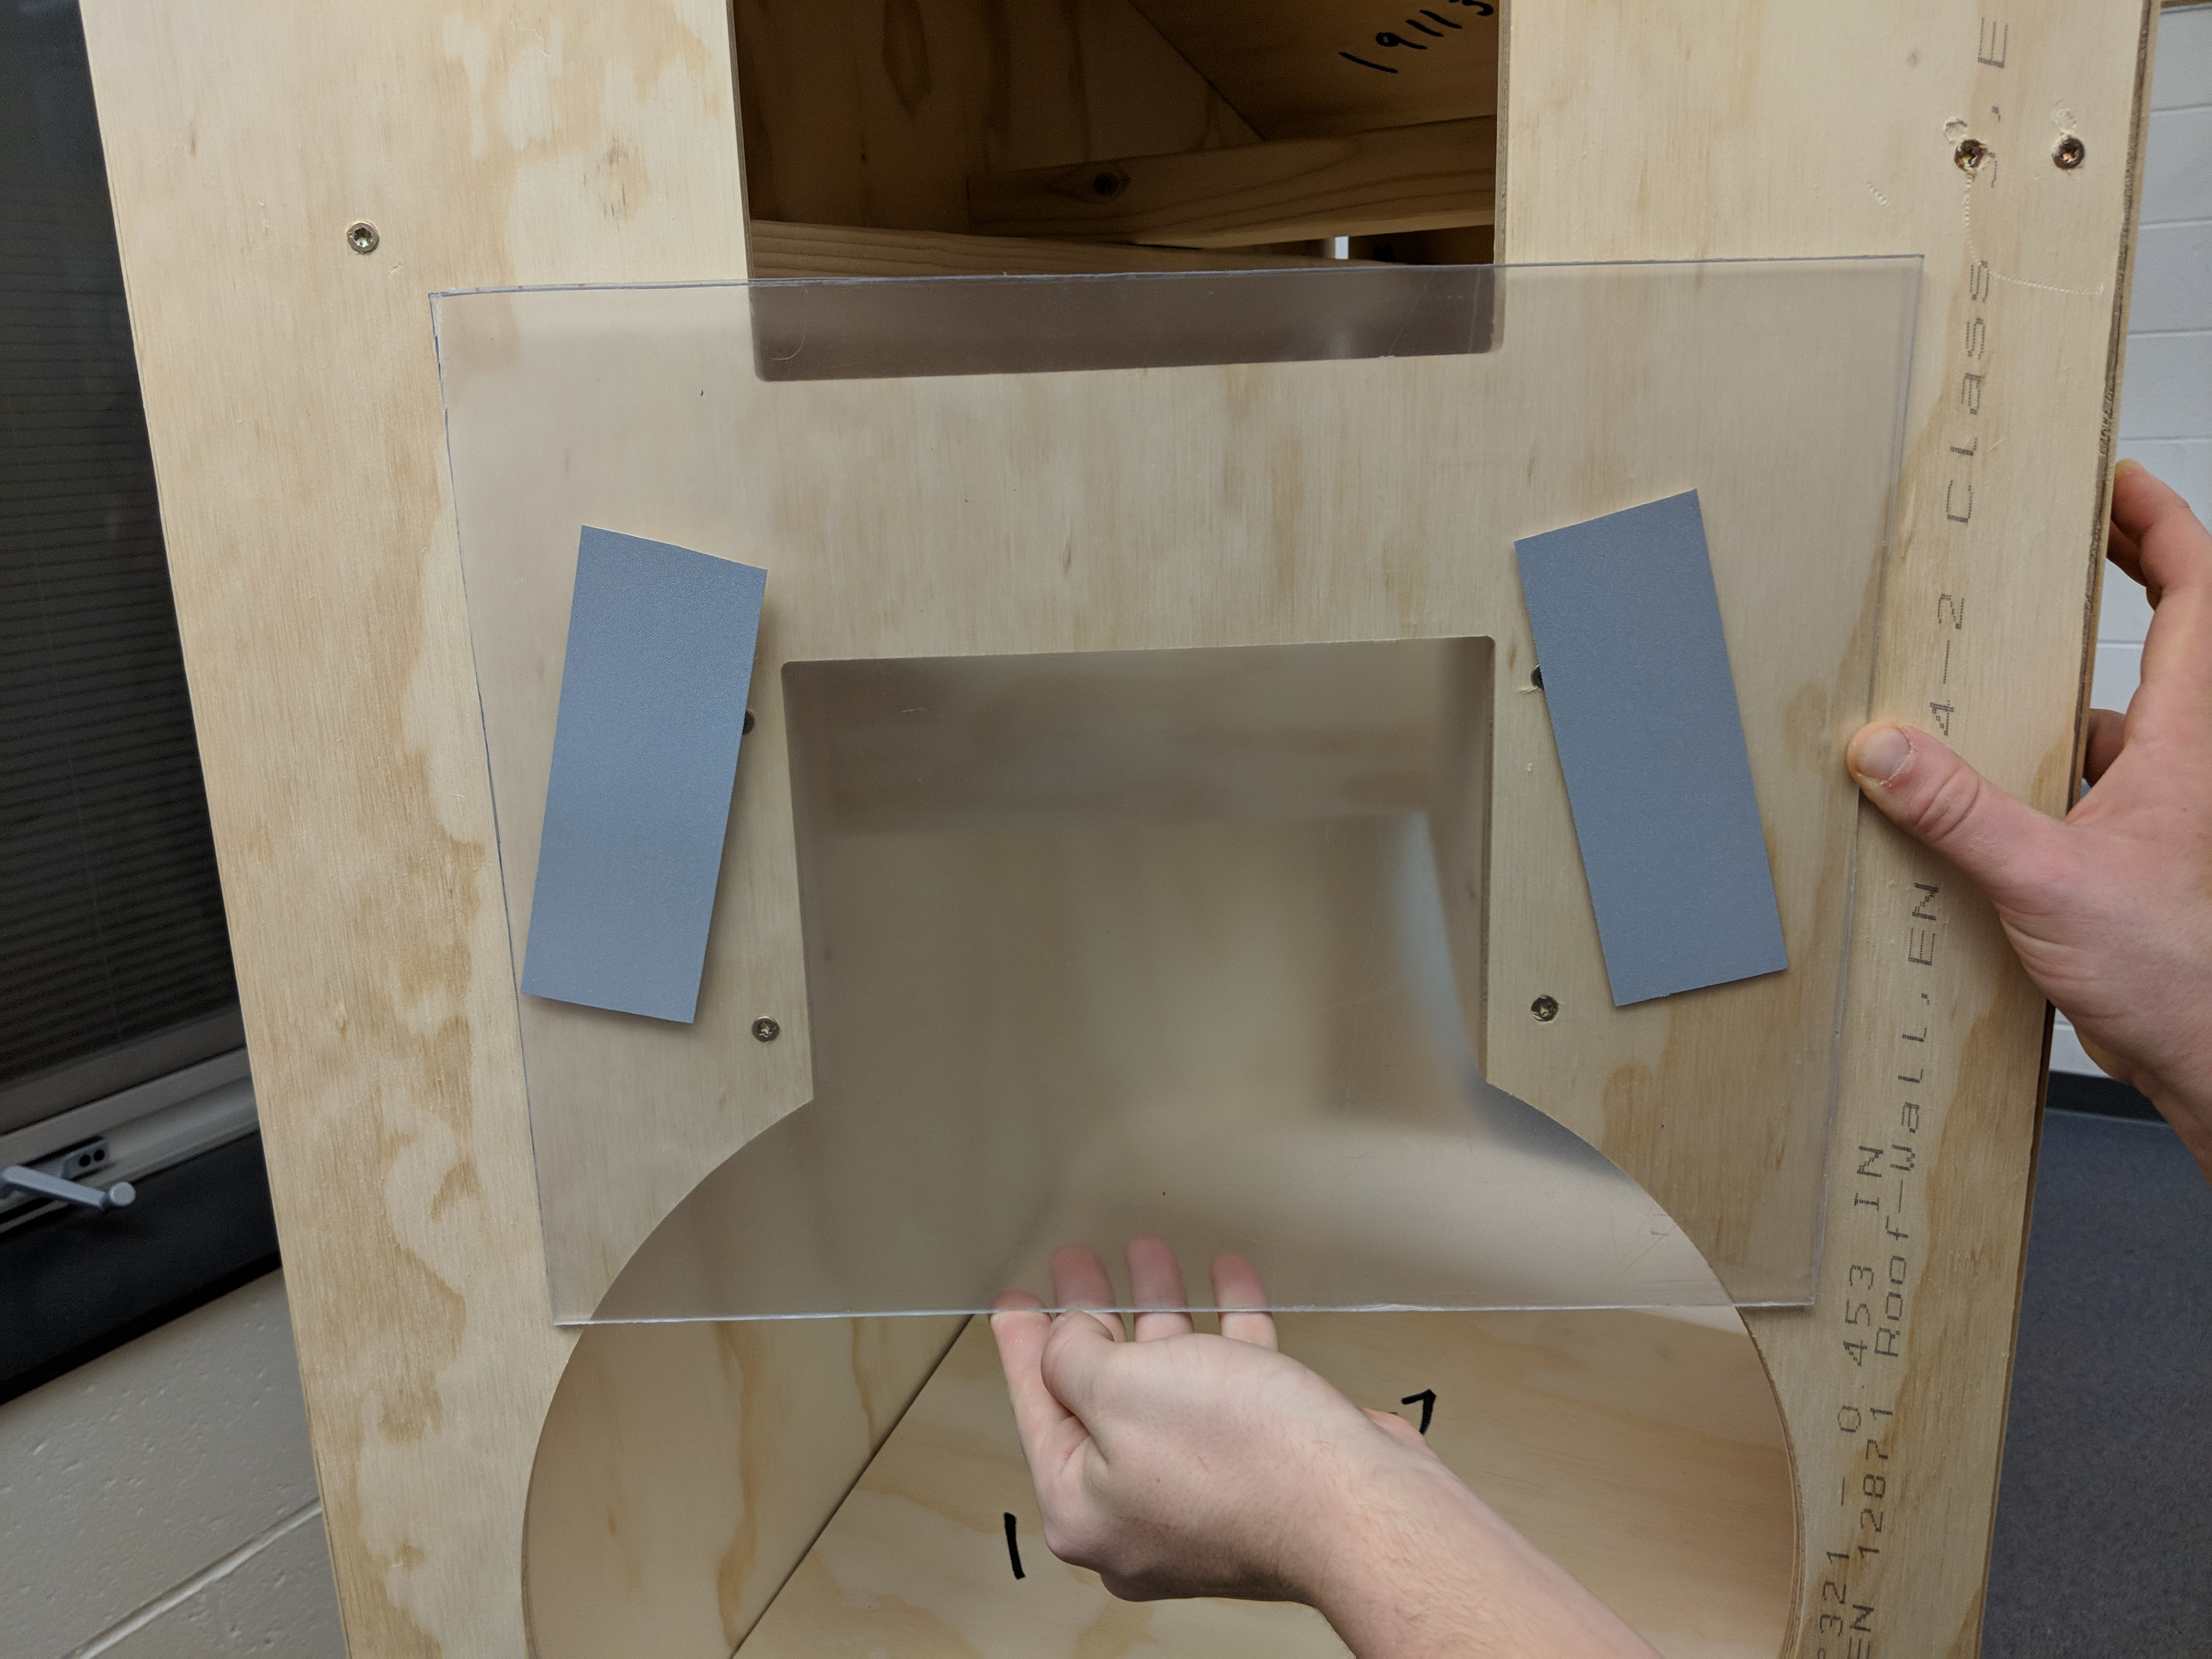vision_target: (505, 476, 1801, 1049)
